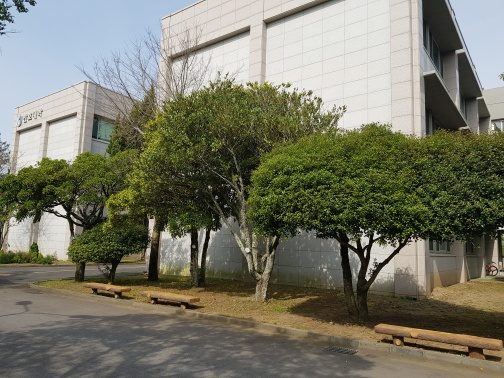College of Nursing: (157, 4, 488, 290)
